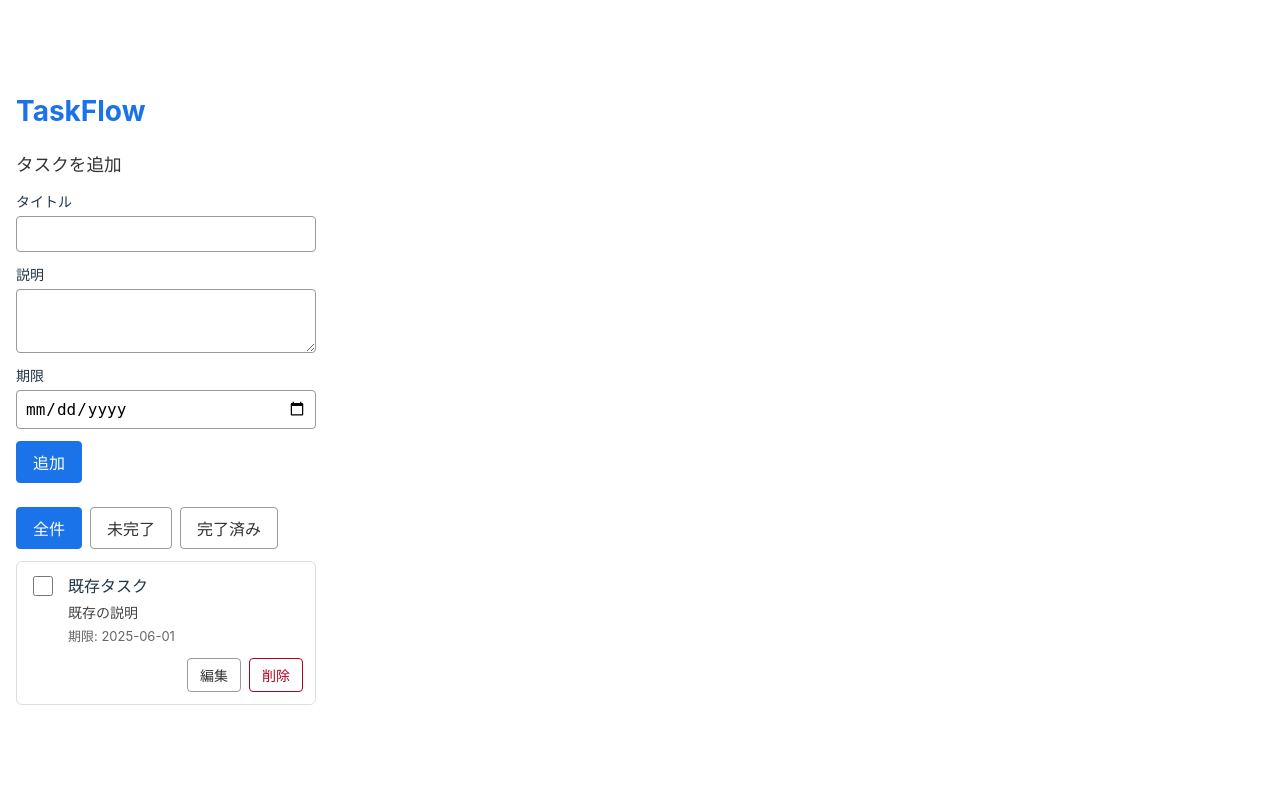
Test: App タスク削除 › 削除確認ダイアログで承認するとタスクが除外される
This screenshot has width=1280, height=800.
expect the text "既存タスク" is shown: met, box [68,576,148,596]
What coordinates should you click on to do the following:
click the button "削除"
I would click on:
 (276, 675)
Its box is [249,658,303,692].
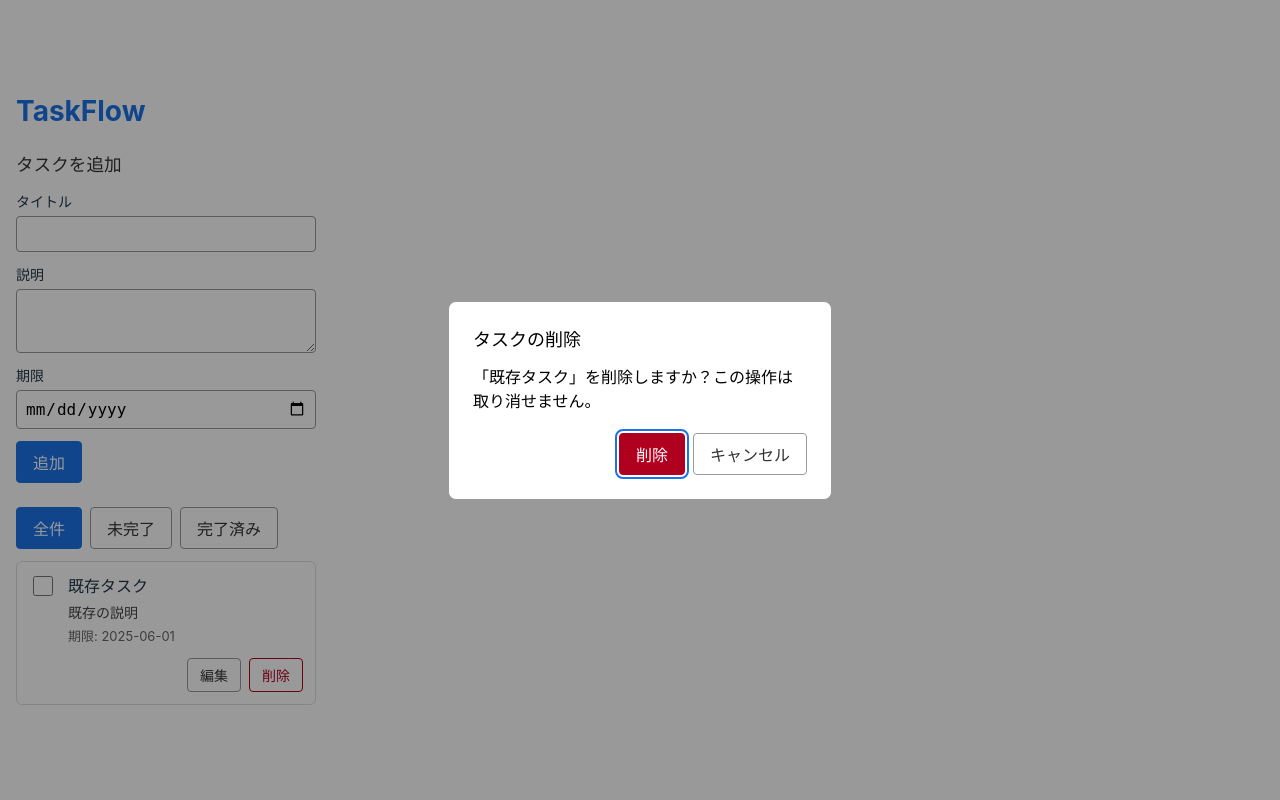
# 確認ダイアログの承認ボタンを押す
What coordinates should you click on to do the following:
click the button "削除"
I would click on:
 (652, 454)
Its box is [619,432,685,474].
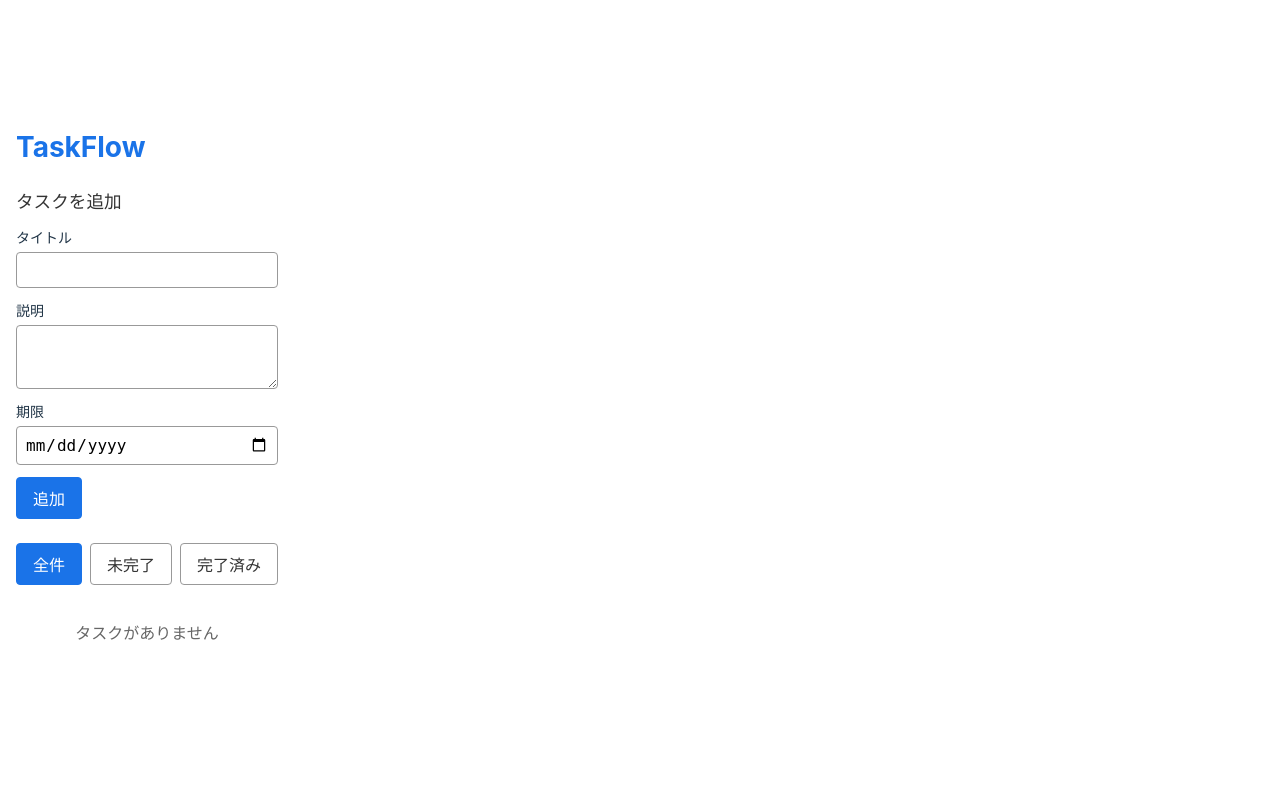
expect the text "既存タスク" is gone: met
expect the text "タスクがありません" is shown: met, box [75,623,219,643]
